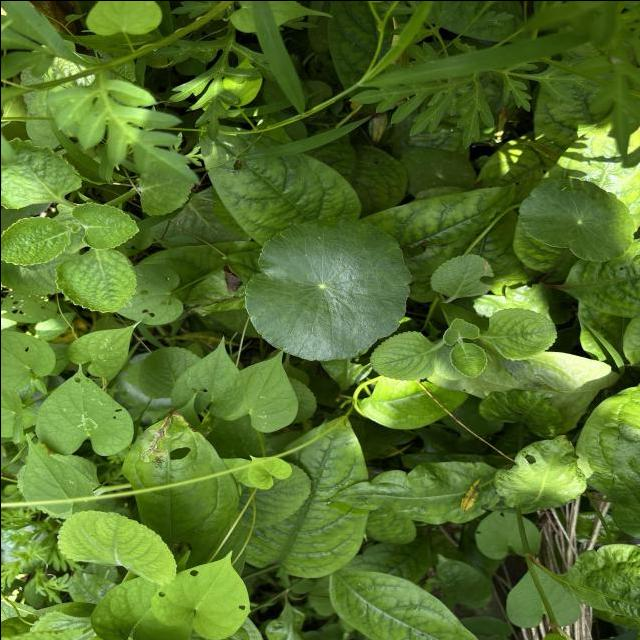Bacopa monnieri: (241, 214, 414, 364), (516, 175, 636, 264)
